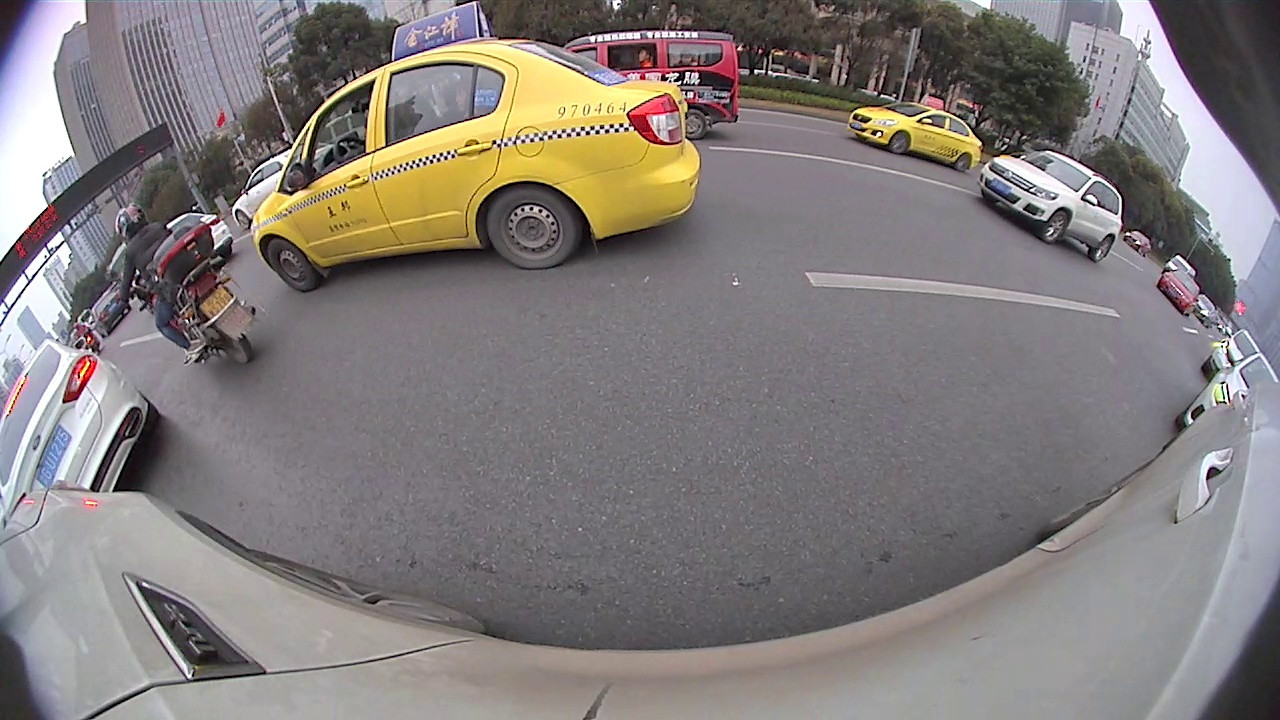car: (258, 4, 698, 289), (1, 340, 158, 516), (563, 33, 738, 140), (978, 150, 1120, 263), (847, 104, 980, 171), (1179, 355, 1278, 433), (234, 148, 308, 227)
front: (265, 237, 317, 288), (1040, 206, 1072, 243), (887, 130, 914, 155), (232, 208, 251, 232)
rear: (482, 185, 581, 270), (684, 108, 710, 142), (1090, 234, 1116, 263), (953, 151, 974, 173)
rider: (113, 201, 259, 366)
